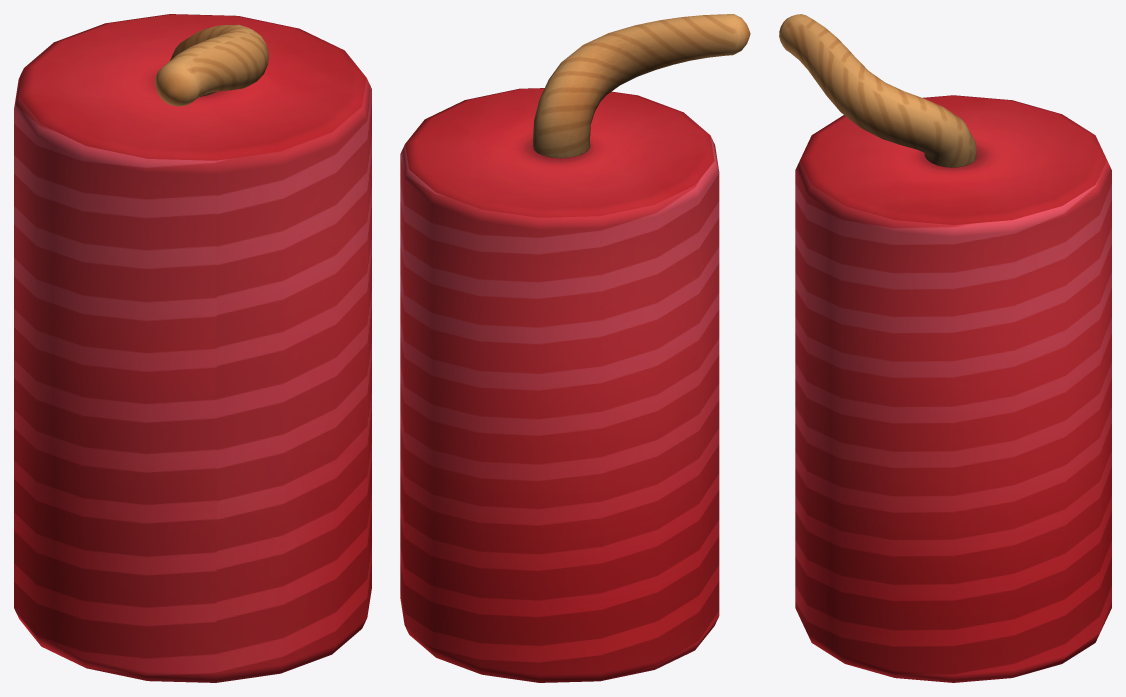
File: RedBomb.fbx
3 renders of one model, left to right at view 1: azimuth 30°, elevation 25°; view 2: azimuth 150°, elevation 25°; view 3: azimuth 270°, elevation 25°, orthographic. The views are drawn at different scales.
Parts seen in each view (by area): view 1: RedBomb; view 2: RedBomb; view 3: RedBomb.
Boxes of the visible parts, x1,y1,x2,y2 form: RedBomb: (14,14,371,682); RedBomb: (400,14,750,682); RedBomb: (779,14,1111,682).
Bounding box in the file's own units: 0.08 × 0.1567 × 0.0841.
